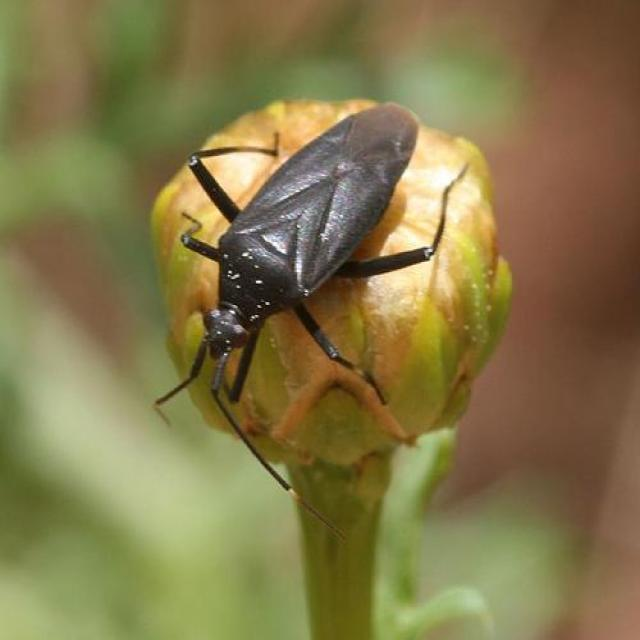Miridae-Adult-: (134, 105, 465, 482)
